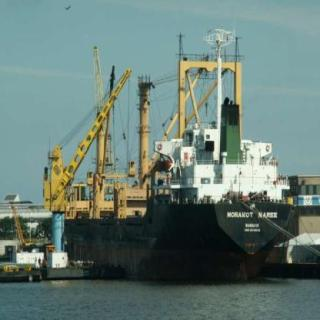Bulk Carrier: (76, 28, 306, 280)
